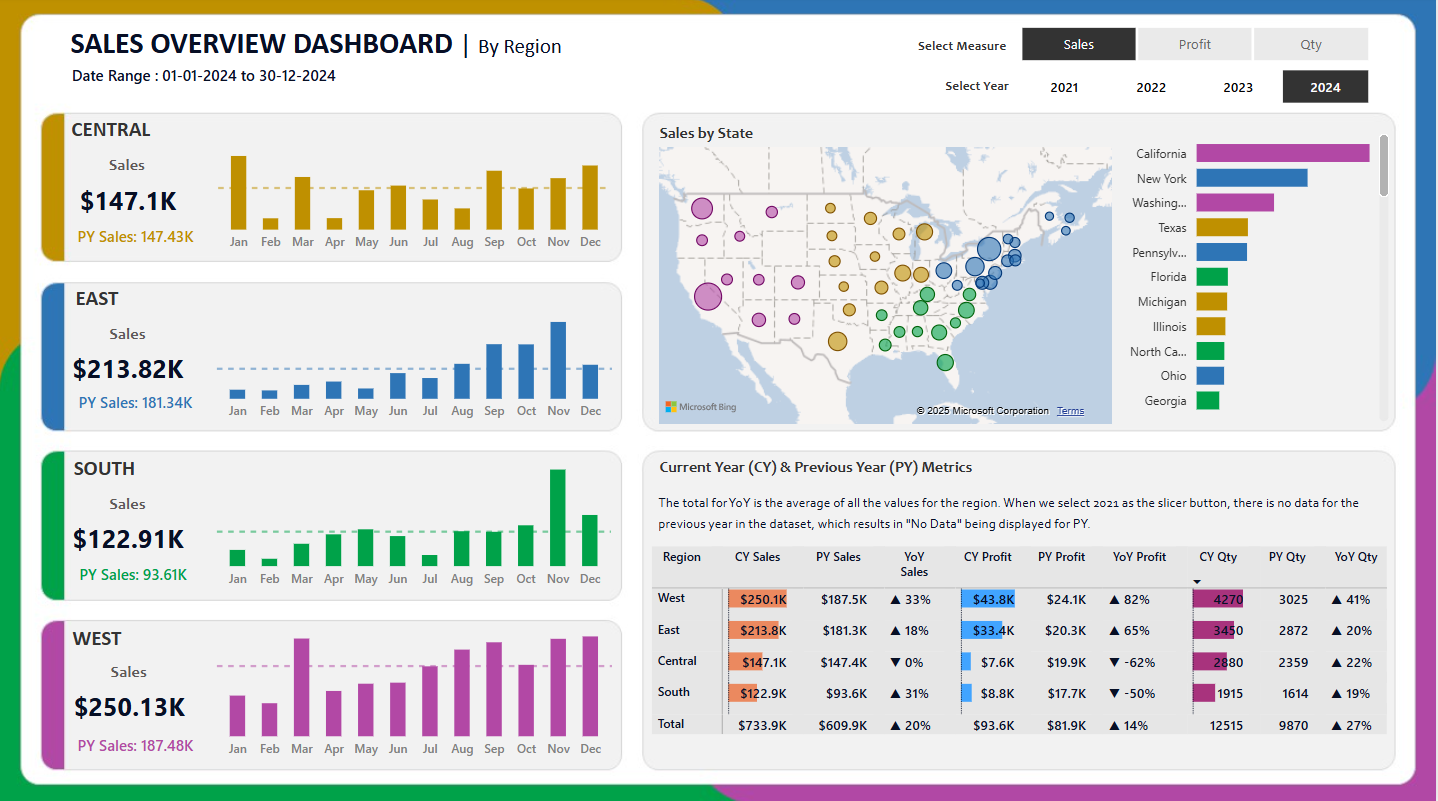

The page's visual inventory and layout, read from the dashboard file:
{"tool":"powerbi","page":{"name":"Sales Overview Report","canvas":[1280,720],"ordinal":0},"visuals":[{"type":"clusteredColumnChart","fields":{"Y":["Orders.Total Sales"],"Category":["Calendar Table.Month"]},"box":[190,103.6,360,132.7],"z":0},{"type":"textbox","box":[48.6,102.1,101.2,33.1],"z":1000},{"type":"card","fields":{"Values":["Orders.Total Sales"]},"box":[56.7,164.4,116.7,36.7],"z":2000},{"type":"slicer","fields":{"Values":["Parameter.Parameter"]},"box":[884.5,20.9,358.2,42.7],"z":3000},{"type":"card","fields":{"Values":["Orders.Title"]},"box":[81.1,136.7,65.6,25.6],"z":4000},{"type":"clusteredColumnChart","fields":{"Y":["Orders.Total Sales"],"Category":["Calendar Table.Month"]},"box":[188.9,254.4,361.4,132],"z":5000},{"type":"textbox","box":[36.2,252.7,100.9,32.8],"z":6000},{"type":"card","fields":{"Values":["Orders.Total Sales"]},"box":[56.3,314.5,116.4,36.2],"z":7000},{"type":"card","fields":{"Values":["Orders.Title"]},"box":[82.2,287.8,64.4,26.7],"z":8000},{"type":"clusteredColumnChart","fields":{"Y":["Orders.Total Sales"],"Category":["Calendar Table.Month"]},"box":[189.1,404.5,360.9,131.8],"z":9000},{"type":"textbox","box":[43.1,403.7,100.9,32.8],"z":10000},{"type":"card","fields":{"Values":["Orders.Total Sales"]},"box":[56.7,466.7,116.7,36.7],"z":11000},{"type":"card","fields":{"Values":["Orders.Title"]},"box":[82.2,438.9,64.4,25.6],"z":12000},{"type":"clusteredColumnChart","fields":{"Y":["Orders.Total Sales"],"Category":["Calendar Table.Month"]},"box":[188.9,555.5,361.4,132],"z":13000},{"type":"textbox","box":[36.2,555.5,100.9,32.8],"z":14000},{"type":"card","fields":{"Values":["Orders.Total Sales"]},"box":[57.5,615.8,116.7,36.7],"z":15000},{"type":"card","fields":{"Values":["Orders.Title"]},"box":[83.3,588.9,64.4,26.7],"z":16000},{"type":"textbox","box":[26.1,20.6,513.5,46.7],"z":17000},{"type":"map","title":"Sales by State","fields":{"Size":["Orders.Total Sales"],"Category":["Orders.State/Province"],"Series":["Orders.Region"]},"box":[583.3,112.5,413.3,273.3],"z":18000},{"type":"barChart","fields":{"Y":["Orders.Total Sales"],"Category":["Orders.State/Province"],"Series":["Orders.Region"]},"box":[990.9,110,251.8,273.6],"z":19000},{"type":"pivotTable","fields":{"Rows":["Orders.Region"],"Values":["Orders.CY Sales","Orders.PY Sales","Orders.YoY Sales","Orders.CY Profit","Orders.PY Profit","Orders.YoY Profit","Orders.CY Qty","Orders.PY Qty","Orders.YoY Qty"]},"box":[576.2,485.6,666.7,197.5],"z":20000},{"type":"slicer","fields":{"Values":["Calendar Table.Year"]},"box":[884.5,59.1,358.2,42.7],"z":21000},{"type":"card","fields":{"Values":["Orders.SalesPreviousYear"]},"box":[51.7,199.2,140.8,35],"z":22000},{"type":"card","fields":{"Values":["Orders.SalesPreviousYear"]},"box":[50.8,346.7,140.8,35.8],"z":23000},{"type":"card","fields":{"Values":["Orders.SalesPreviousYear"]},"box":[48.9,500,141.1,35.6],"z":24000},{"type":"card","fields":{"Values":["Orders.SalesPreviousYear"]},"box":[51.7,652.5,140.8,35.8],"z":25000},{"type":"textbox","box":[583.6,404.5,337.3,34.5],"z":26000},{"type":"card","fields":{"Values":["Orders.Date Range"]},"box":[33.6,55.5,298.2,34.5],"z":27000},{"type":"textbox","box":[806.4,28.2,103.6,30],"z":28000},{"type":"textbox","box":[819.1,63.6,103.6,30],"z":29000},{"type":"textbox","box":[582.7,435.5,643.6,51.8],"z":30000}]}

Visuals, with their boxes in screenshot pixels (x1, y1, x2, y2), scaled from the page's 1280x720 canvas onto the 1438x801 screenshot:
clusteredColumnChart - Orders.Total Sales x Calendar Table.Month: <box>213,115,618,263</box>
textbox: <box>55,114,168,150</box>
card - Orders.Total Sales: <box>64,183,195,224</box>
slicer - Parameter.Parameter: <box>994,23,1396,71</box>
card - Orders.Title: <box>91,152,165,181</box>
clusteredColumnChart - Orders.Total Sales x Calendar Table.Month: <box>212,283,618,430</box>
textbox: <box>41,281,154,318</box>
card - Orders.Total Sales: <box>63,350,194,390</box>
card - Orders.Title: <box>92,320,165,350</box>
clusteredColumnChart - Orders.Total Sales x Calendar Table.Month: <box>212,450,618,597</box>
textbox: <box>48,449,162,486</box>
card - Orders.Total Sales: <box>64,519,195,560</box>
card - Orders.Title: <box>92,488,165,517</box>
clusteredColumnChart - Orders.Total Sales x Calendar Table.Month: <box>212,618,618,765</box>
textbox: <box>41,618,154,654</box>
card - Orders.Total Sales: <box>65,685,196,726</box>
card - Orders.Title: <box>94,655,166,685</box>
textbox: <box>29,23,606,75</box>
"Sales by State" map: <box>655,125,1120,429</box>
barChart - Orders.Total Sales x Orders.State/Province: <box>1113,122,1396,427</box>
pivotTable - Orders.Region x Orders.CY Sales: <box>647,540,1396,760</box>
slicer - Calendar Table.Year: <box>994,66,1396,113</box>
card - Orders.SalesPreviousYear: <box>58,222,216,261</box>
card - Orders.SalesPreviousYear: <box>57,386,215,426</box>
card - Orders.SalesPreviousYear: <box>55,556,213,596</box>
card - Orders.SalesPreviousYear: <box>58,726,216,766</box>
textbox: <box>656,450,1035,488</box>
card - Orders.Date Range: <box>38,62,373,100</box>
textbox: <box>906,31,1022,65</box>
textbox: <box>920,71,1037,104</box>
textbox: <box>655,484,1378,542</box>
